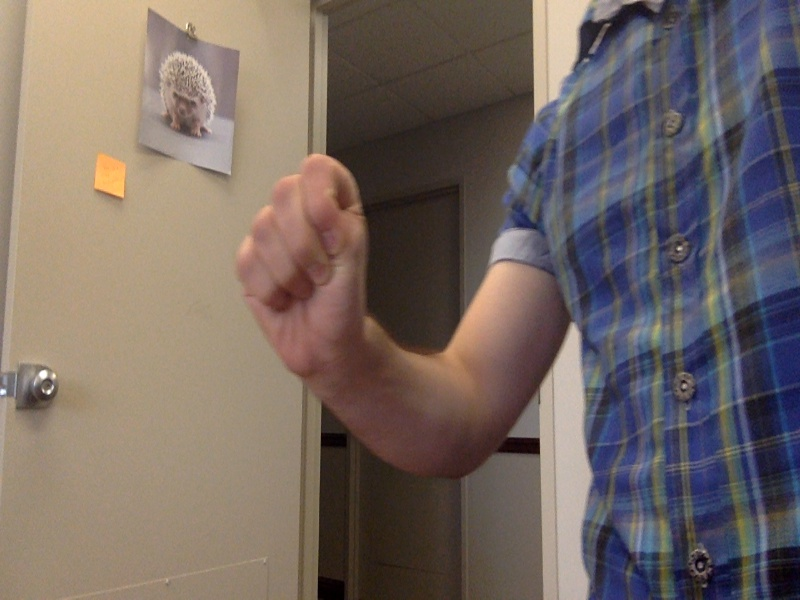0-hand: (229, 152, 377, 376)
